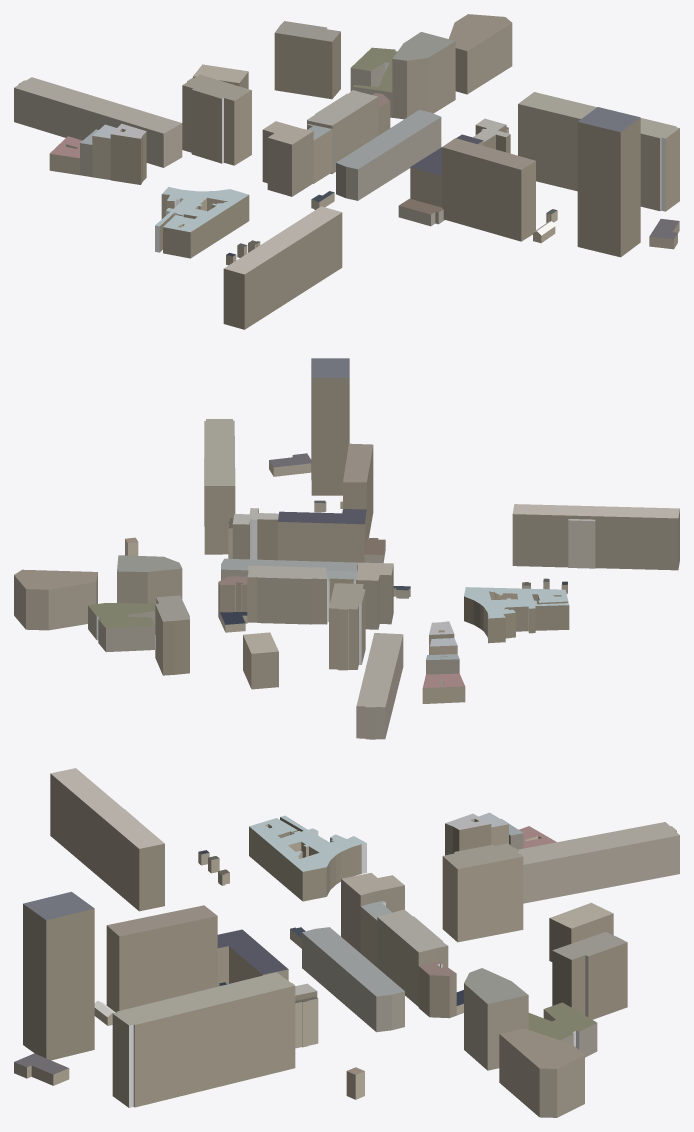
3 views of the same model, one above another, from view 1: azimuth 30°, elevation 25°; view 2: azimuth 150°, elevation 25°; view 3: azimuth 270°, elevation 25° (orthographic). The views are drawn at different scales.
Parts seen in each view (by area): view 1: tuile; view 2: tuile; view 3: tuile.
Boxes of the visible parts, box(x1,y1,x2,y2) form: tuile: box(14, 14, 679, 329); tuile: box(14, 358, 679, 739); tuile: box(14, 768, 679, 1117).
Bounding box in the file's own units: 288 × 72.54 × 297.
